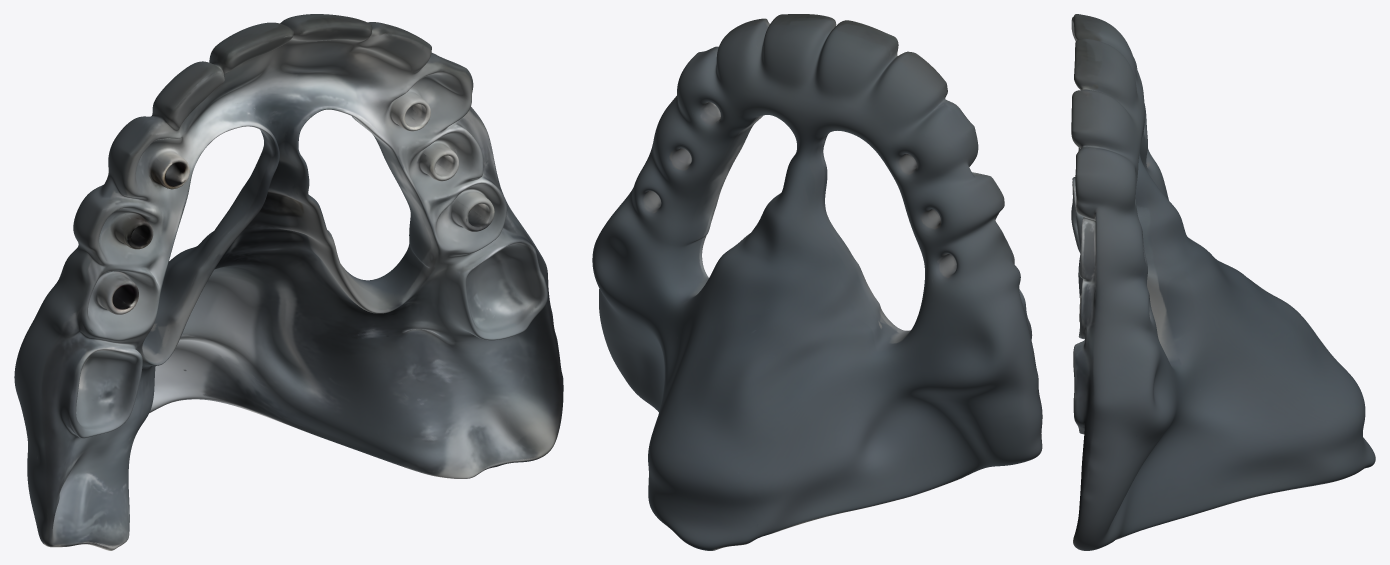
Rendered from maxilla.glb.
3 renders of one model, left to right at view 1: azimuth 30°, elevation 25°; view 2: azimuth 150°, elevation 25°; view 3: azimuth 270°, elevation 25°, orthographic. The views are drawn at different scales.
Parts seen in each view (by area): view 1: node_0; view 2: node_0; view 3: node_0.
Boxes of the visible parts, x1,y1,x2,y2 form: node_0: [14, 14, 563, 550]; node_0: [592, 14, 1042, 550]; node_0: [1071, 14, 1375, 550].
Size of the model in its own units: 0.8709 by 0.8175 by 0.5223.
1 material, 1 textured.
